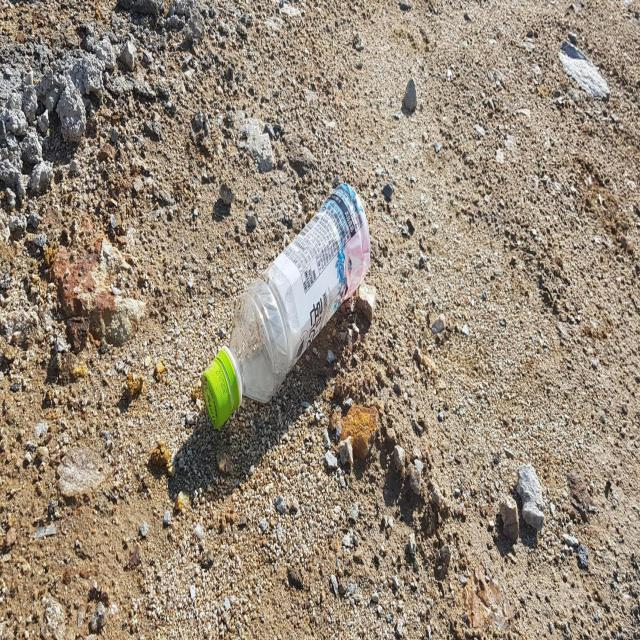plastic: (201, 182, 370, 428)
